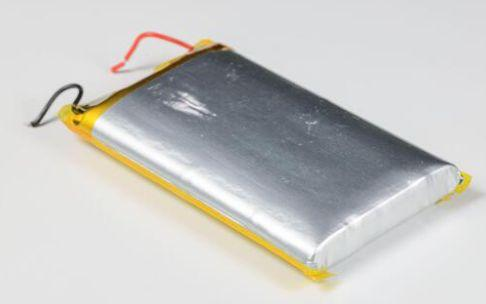battery: (50, 35, 474, 289)
